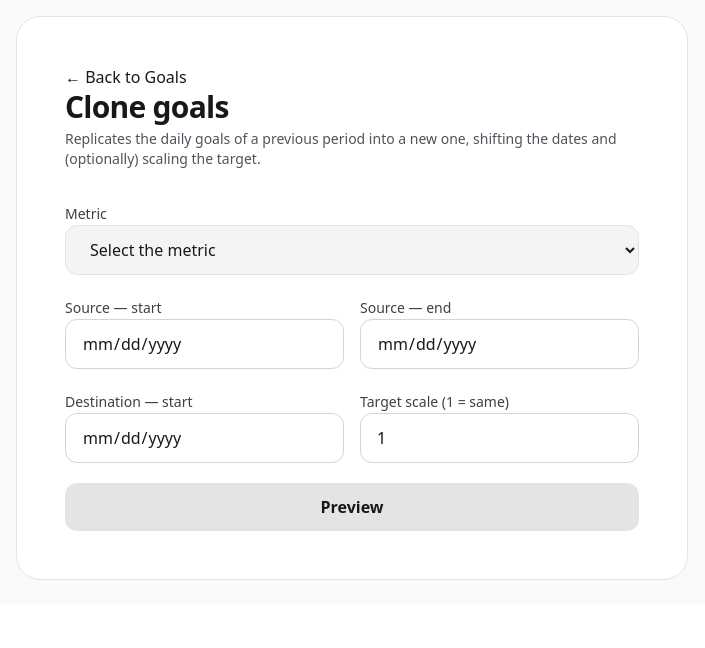
Test: ClonarMetas › mostra a prévia (dry_run) com criadas, ignoradas e soma
Select "Receita (daily)" in the dropdown named "metric_id": (352, 250) [65, 225, 639, 275]
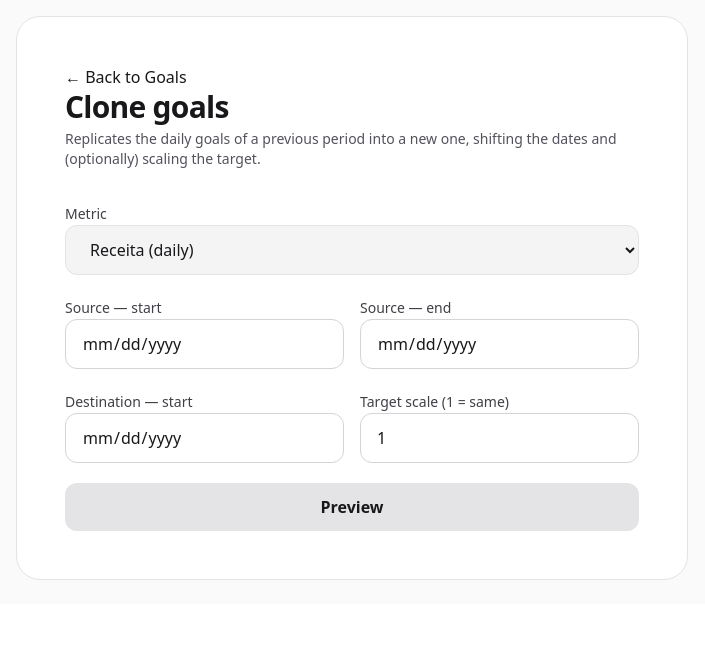
In the date field named "origem_inicio" below "Source — start": (204, 344) [65, 319, 344, 369], type "2026-07-01"
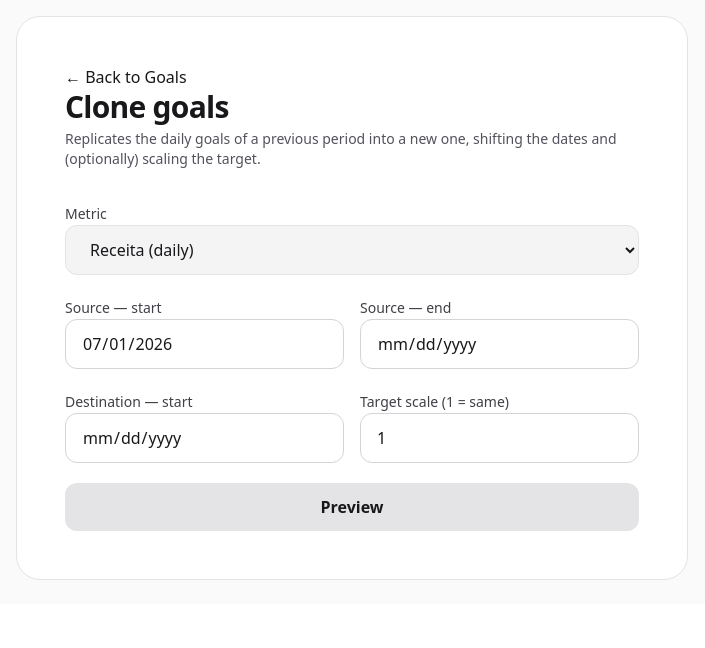
In the date field named "origem_fim" below "Source — end": (500, 344) [360, 319, 639, 369], type "2026-07-04"
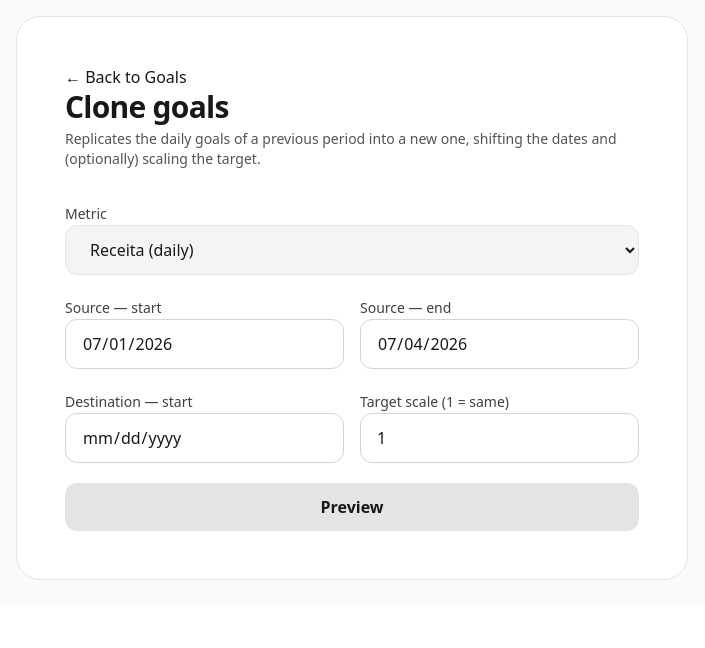
In the date field named "destino_inicio" below "Destination — start": (204, 438) [65, 413, 344, 463], type "2026-08-01"
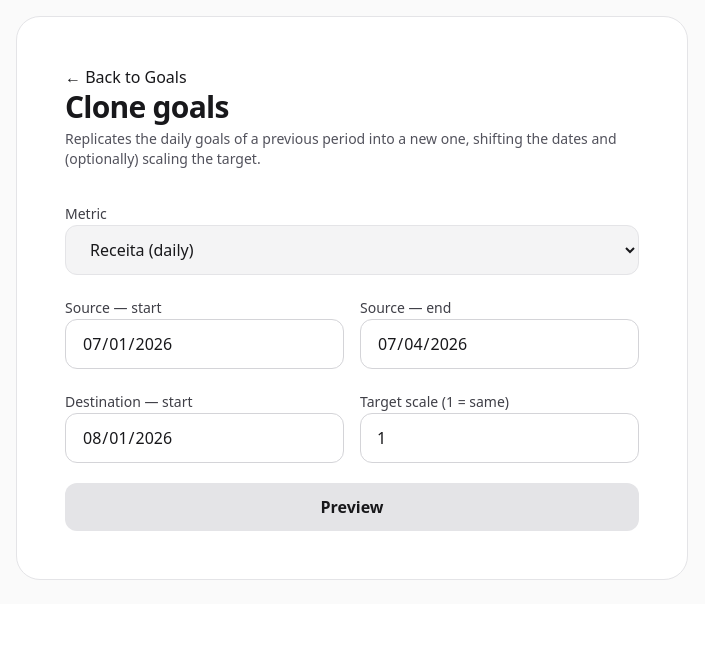
Click the button "Preview": (352, 507) [65, 483, 639, 531]
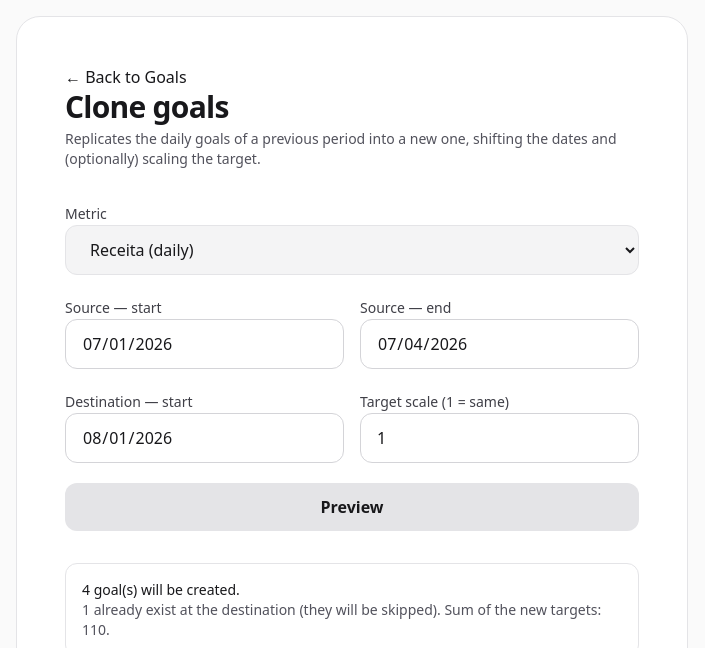
Now the text "1 already exist" is shown, box [82, 600, 601, 639]
